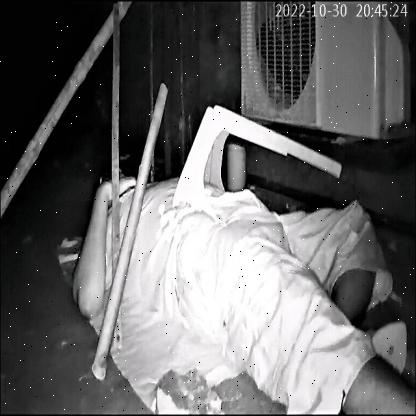hand: (60, 158, 140, 314)
